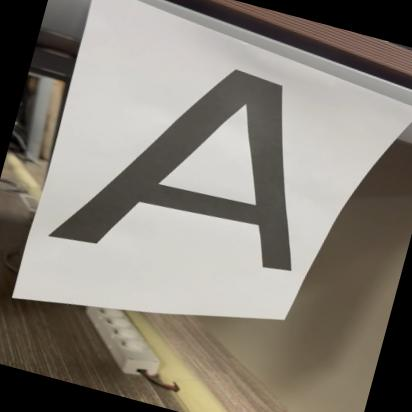seat: (41, 11, 356, 312)
